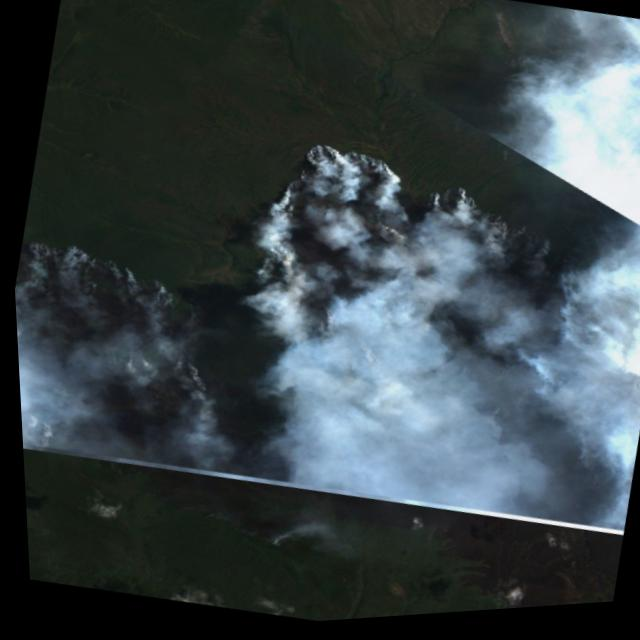fire: (209, 118, 583, 480), (10, 226, 196, 472)
